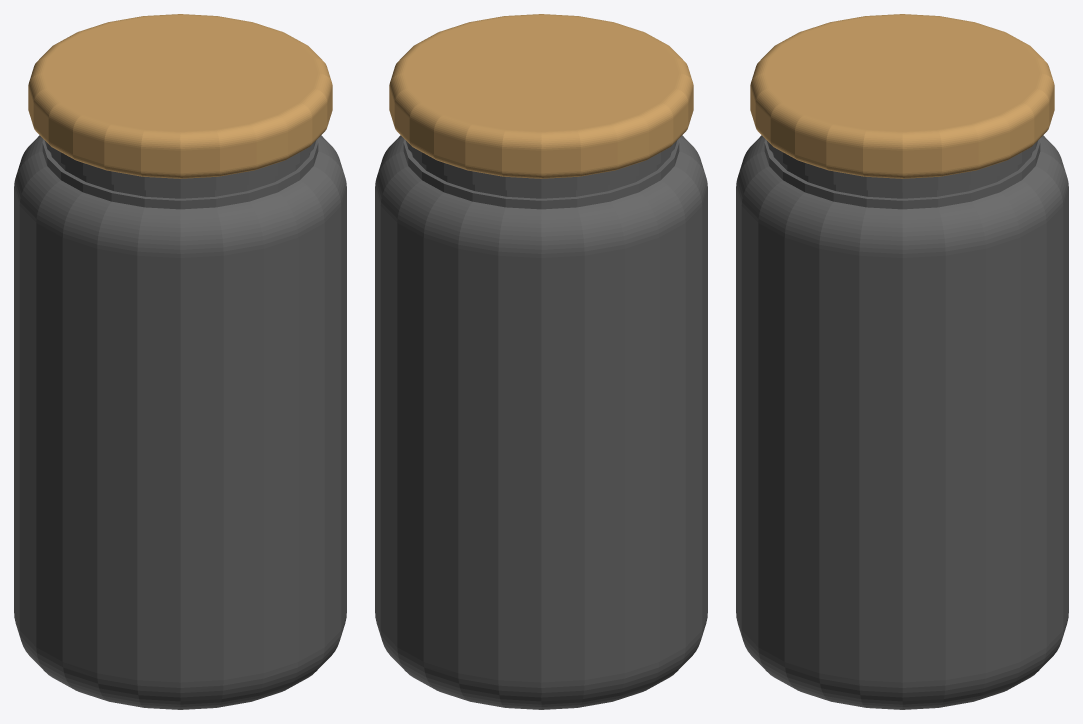
3 views of the same model, side by side, from view 1: azimuth 30°, elevation 25°; view 2: azimuth 150°, elevation 25°; view 3: azimuth 270°, elevation 25° (orthographic).
Visible parts, largest first — view 1: mesh1_mesh1-geometry, mesh7_mesh7-geometry; view 2: mesh1_mesh1-geometry, mesh7_mesh7-geometry; view 3: mesh1_mesh1-geometry, mesh7_mesh7-geometry.
Part boxes in pixels (x1,y1,x2,y2): mesh1_mesh1-geometry: (14,135,346,709); mesh7_mesh7-geometry: (28,14,332,178); mesh1_mesh1-geometry: (375,135,707,709); mesh7_mesh7-geometry: (389,14,693,178); mesh1_mesh1-geometry: (736,135,1068,709); mesh7_mesh7-geometry: (750,14,1054,178).
Size of the model in its own units: 0.4181 by 0.8064 by 0.4181.
